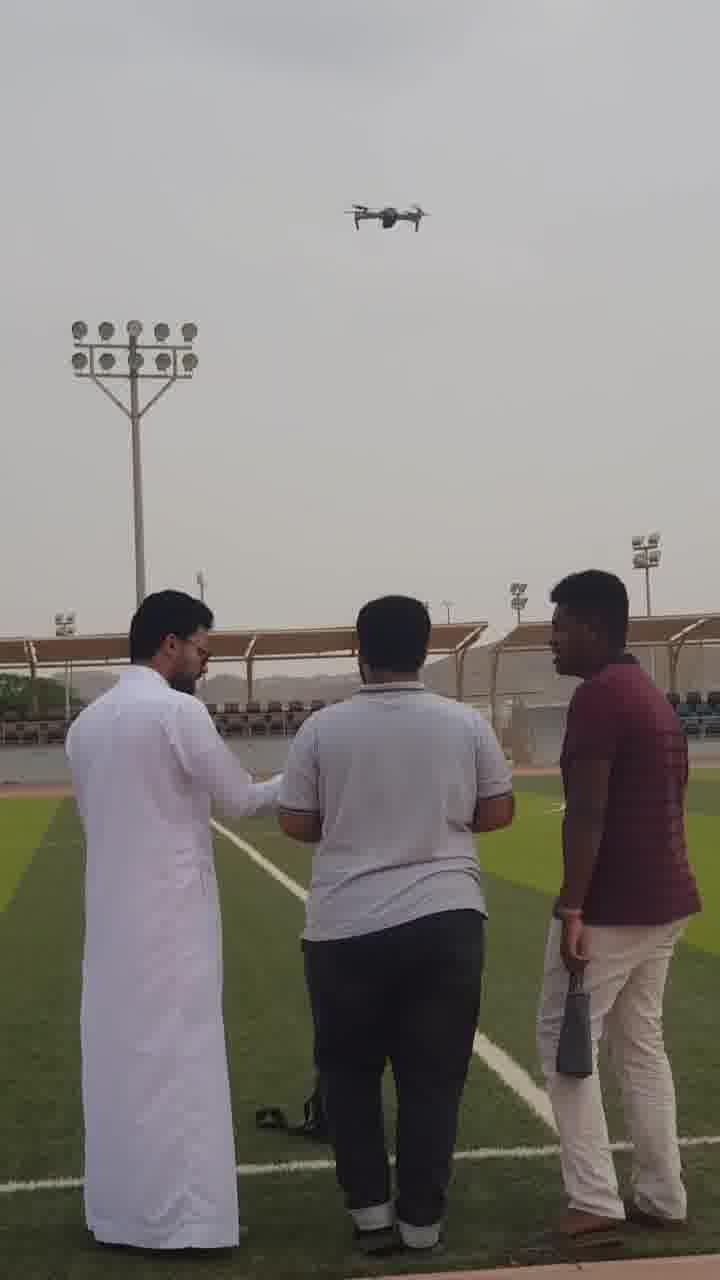drone: (342, 196, 437, 233)
